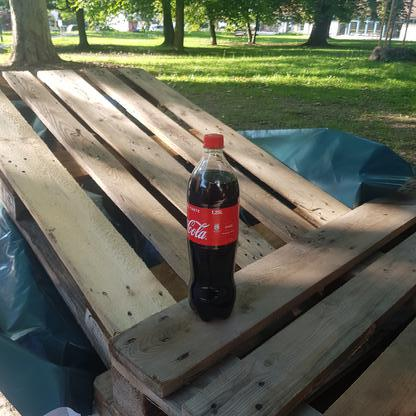coca-cola: (183, 132, 241, 326)
